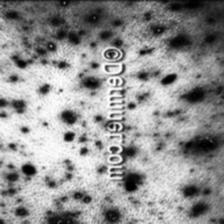Toxin: (42, 208, 86, 224), (194, 136, 219, 150), (125, 174, 142, 190)
